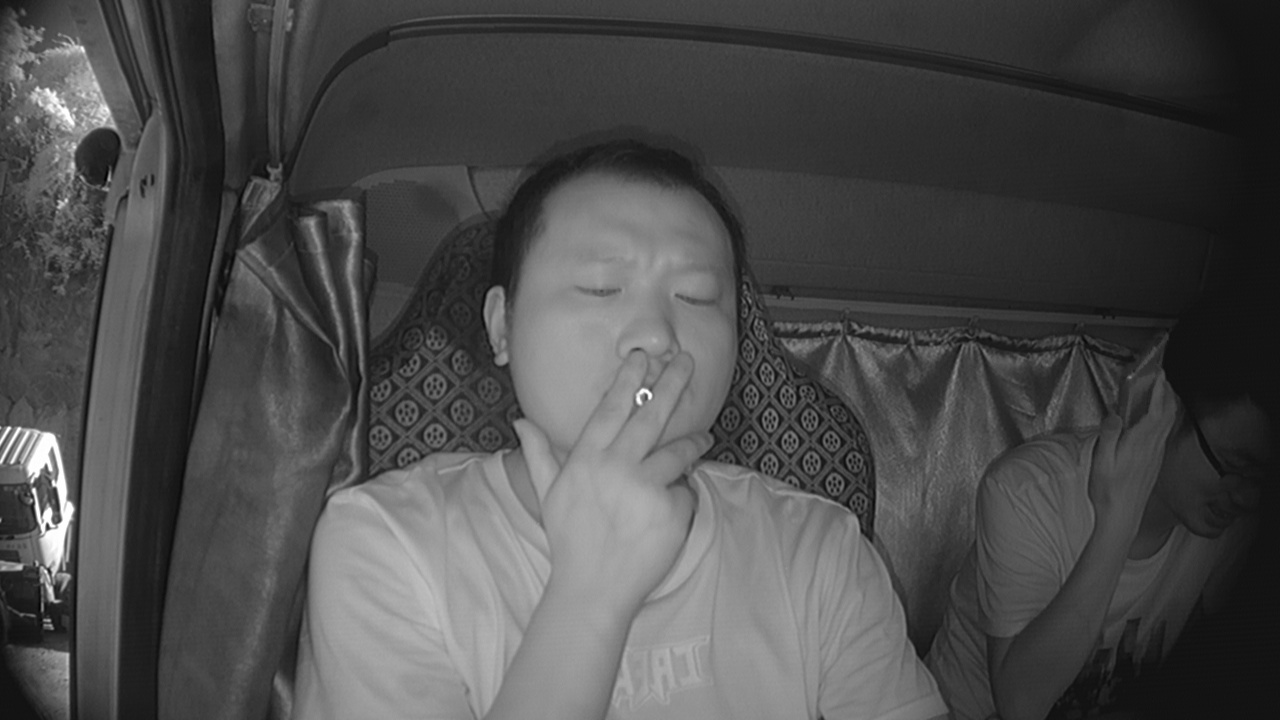hand: (572, 359, 727, 546)
